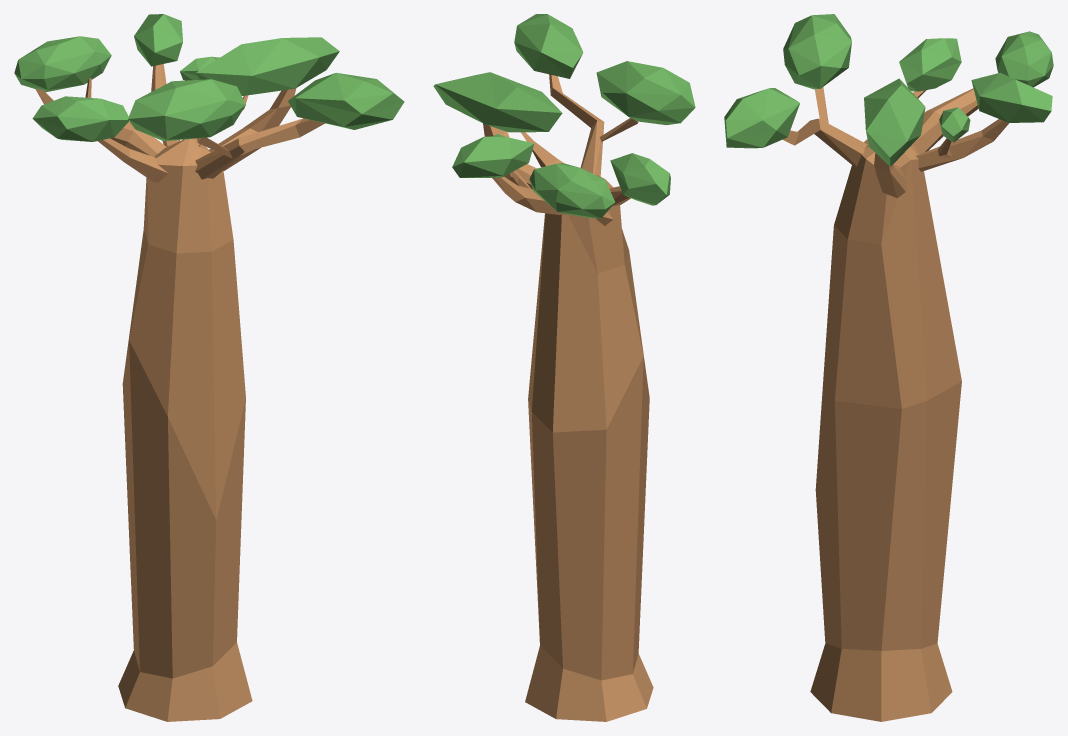
Rendered from Exotic_Tree_A.fbx.
The picture shows the model from 3 angles, left to right: view 1: azimuth 30°, elevation 25°; view 2: azimuth 150°, elevation 25°; view 3: azimuth 270°, elevation 25°; orthographic projection. The views are drawn at different scales.
Parts seen in each view (by area): view 1: Exotic_Tree_A; view 2: Exotic_Tree_A; view 3: Exotic_Tree_A.
Boxes of the visible parts, left/top/right/bottom form: Exotic_Tree_A: left=14, top=14, right=404, bottom=721; Exotic_Tree_A: left=433, top=14, right=695, bottom=721; Exotic_Tree_A: left=724, top=14, right=1053, bottom=721.
Bounding box in the file's own units: 418 × 928 × 423.
